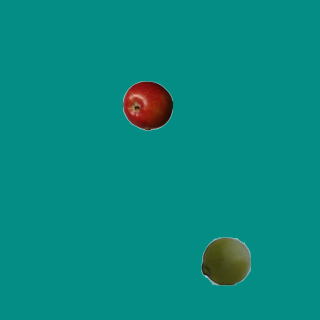Apple Braeburn: (122, 80, 172, 130)
Grape White 4: (200, 235, 250, 285)
